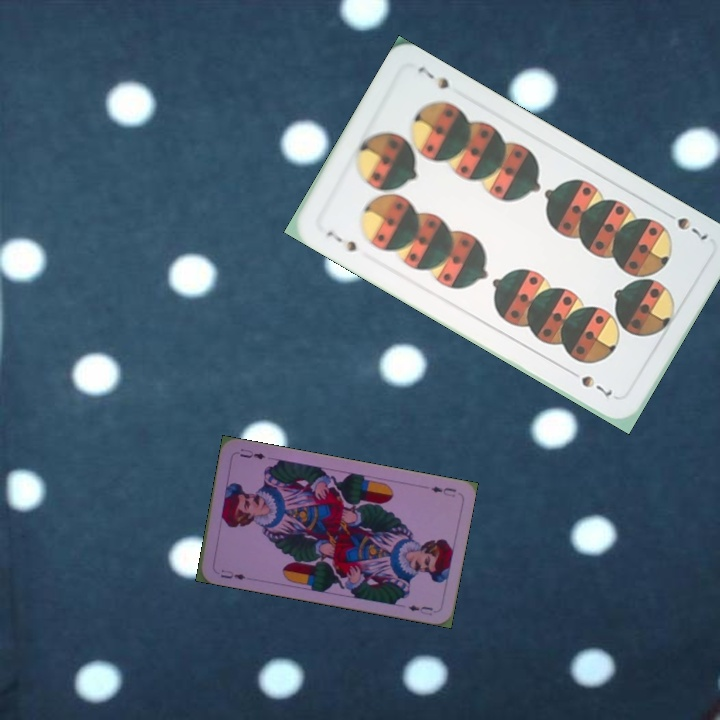EU: (216, 565, 252, 583), (427, 482, 459, 500)
S7: (660, 207, 711, 243), (323, 226, 360, 254)
